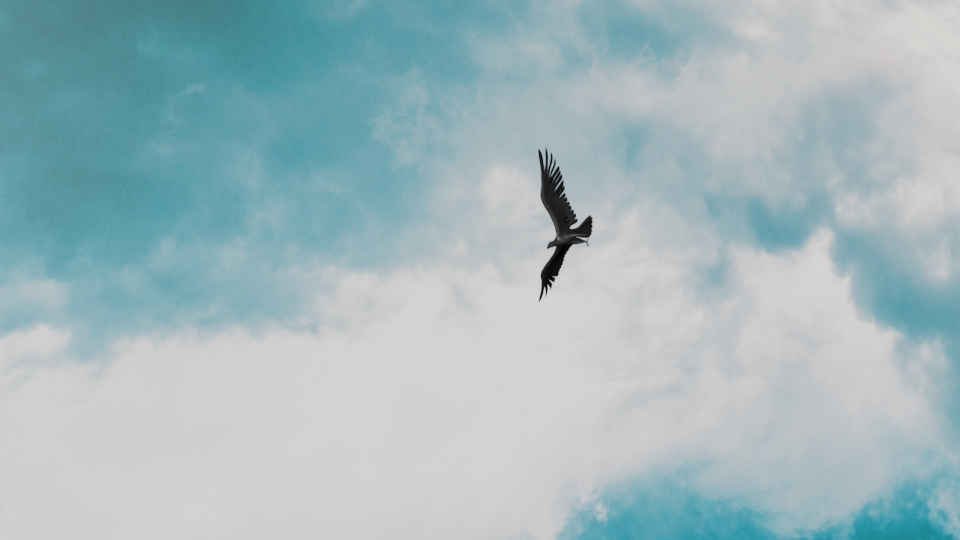bird: (531, 143, 593, 301)
